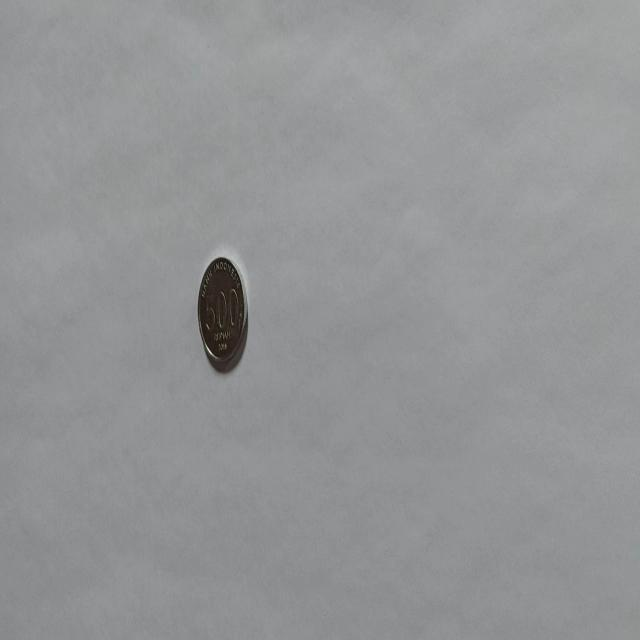lima ratus rupiah: (196, 255, 248, 373)
